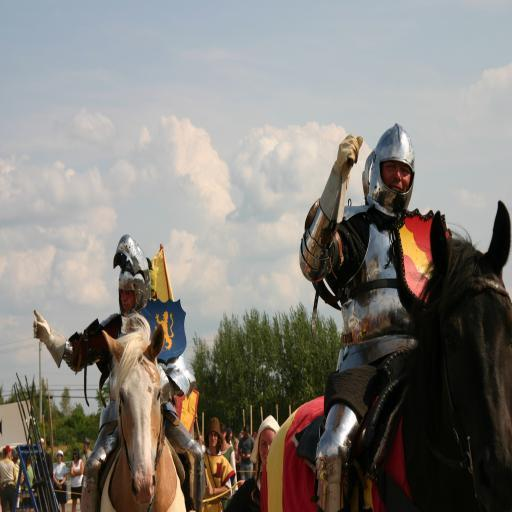horse: (260, 208, 512, 510), (98, 310, 186, 512)
